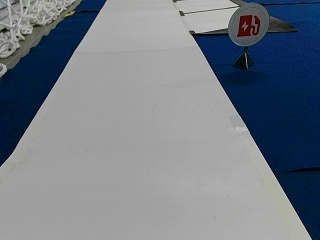battery: (227, 2, 269, 46)
